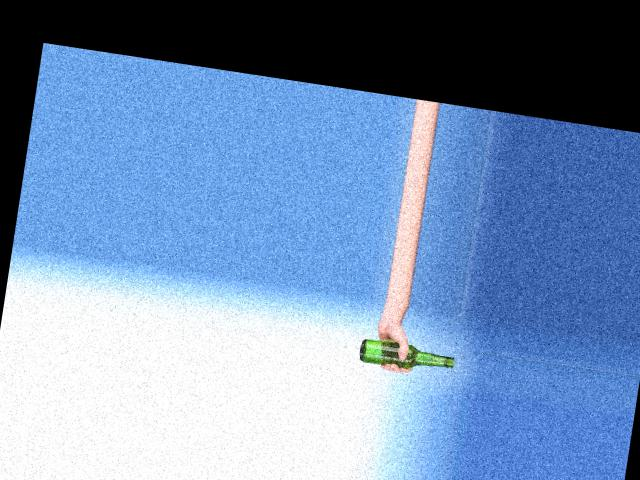beer: (358, 338, 456, 374)
